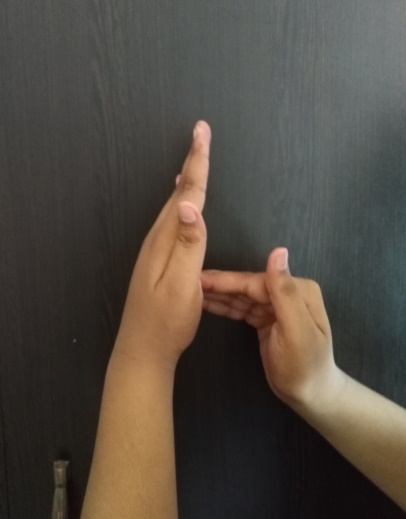ga: (134, 118, 335, 403)
